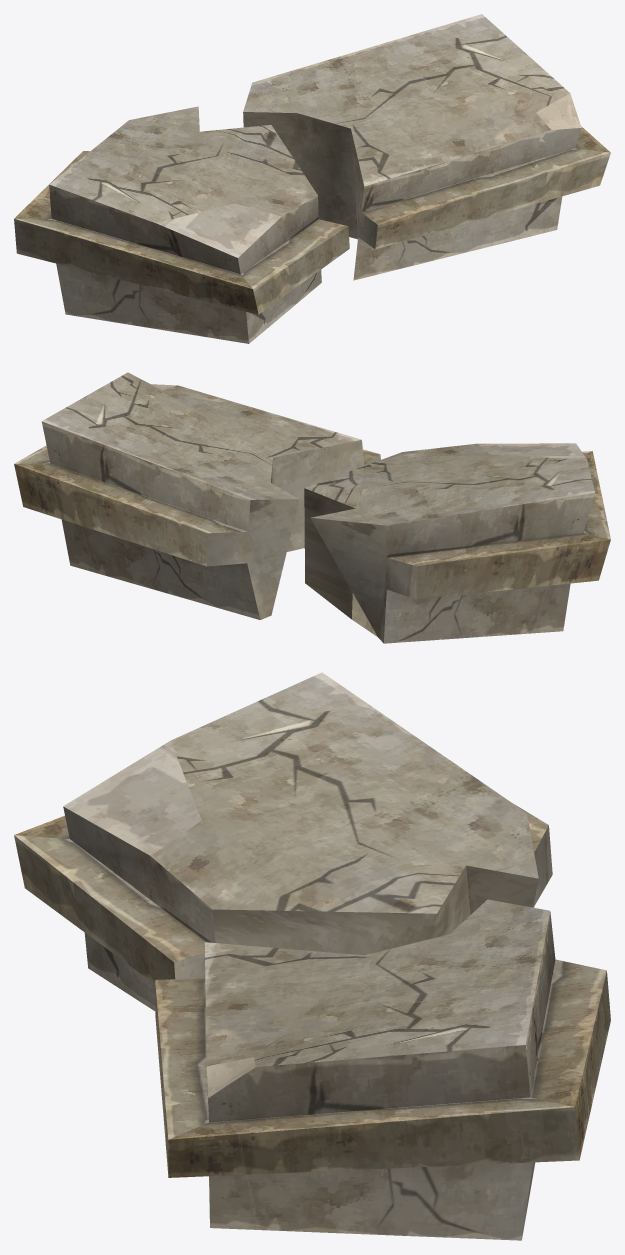
File: Toon_Support_Broken.fbx
3 views of the same model, one above another, from view 1: azimuth 30°, elevation 25°; view 2: azimuth 150°, elevation 25°; view 3: azimuth 270°, elevation 25° (orthographic). The views are drawn at different scales.
Parts seen in each view (by area): view 1: Toon_Support_Broken; view 2: Toon_Support_Broken; view 3: Toon_Support_Broken.
Part boxes in pixels (left/top/right/bottom): Toon_Support_Broken: left=14, top=14, right=610, bottom=343; Toon_Support_Broken: left=14, top=372, right=610, bottom=643; Toon_Support_Broken: left=14, top=672, right=610, bottom=1240.
Bounding box in the file's own units: 9.38 × 2.36 × 5.9.
